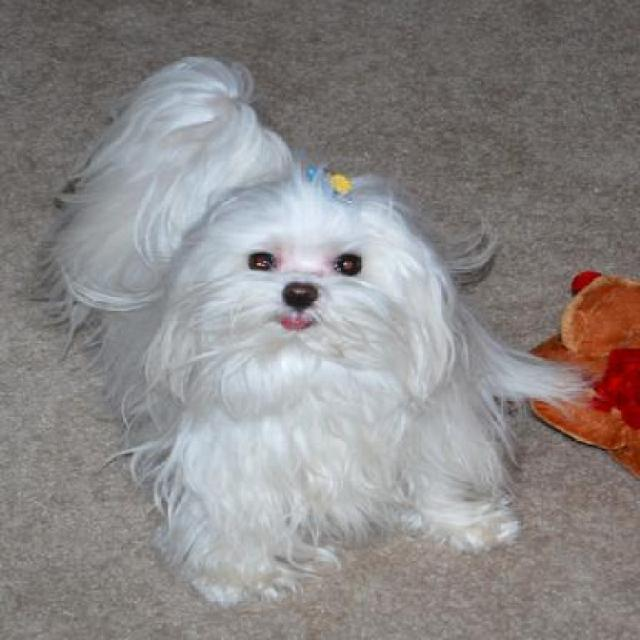Dog: (29, 55, 609, 608)
